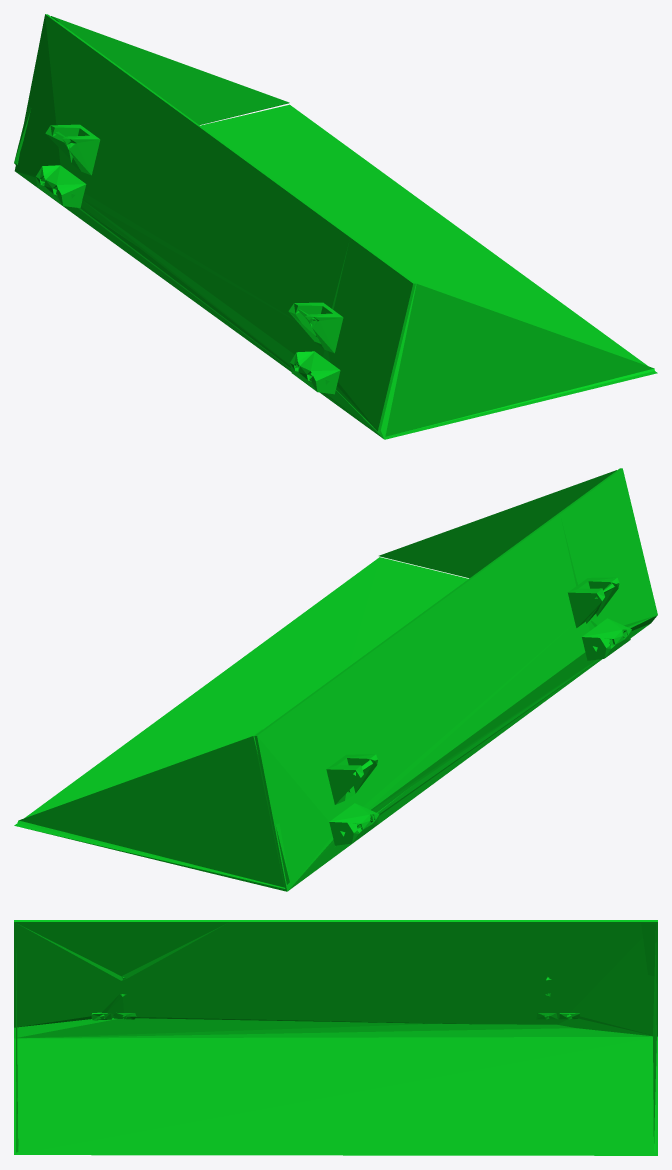
Rendered from bucket_simple.dae.
3 renders of one model, top to bottom at view 1: azimuth 30°, elevation 25°; view 2: azimuth 150°, elevation 25°; view 3: azimuth 270°, elevation 25°, orthographic. The views are drawn at different scales.
Parts seen in each view (by area): view 1: bucket; view 2: bucket; view 3: bucket.
Part boxes in pixels (x1,y1,x2,y2): bucket: [14, 14, 657, 439]; bucket: [14, 468, 657, 891]; bucket: [14, 920, 657, 1155].
Size of the model in its own units: 0.3387 by 0.7237 by 0.1629.
